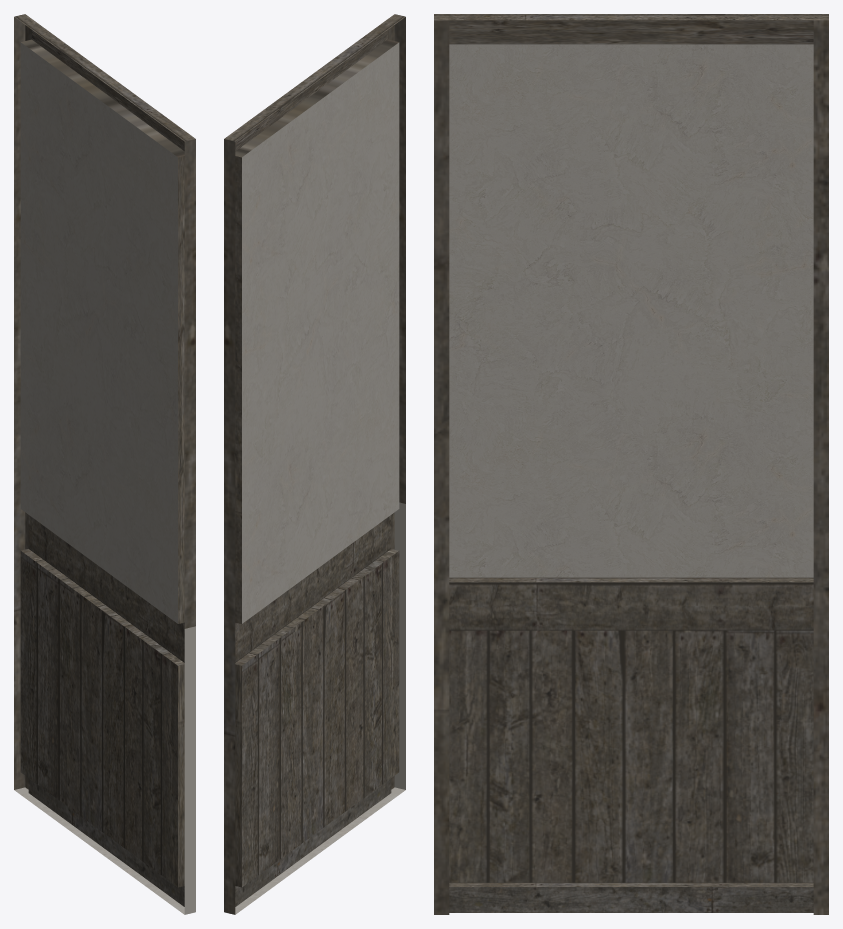
File: Wall1.fbx
The picture shows the model from 3 angles, left to right: view 1: azimuth 30°, elevation 25°; view 2: azimuth 150°, elevation 25°; view 3: azimuth 270°, elevation 25°; orthographic projection. The views are drawn at different scales.
Parts seen in each view (by area): view 1: outer wall; view 2: outer wall; view 3: outer wall.
Part boxes in pixels (left/top/right/bottom): outer wall: left=14, top=14, right=195, bottom=914; outer wall: left=224, top=14, right=405, bottom=914; outer wall: left=434, top=14, right=828, bottom=914.
Size of the model in its own units: 7.56 by 500 by 200.
